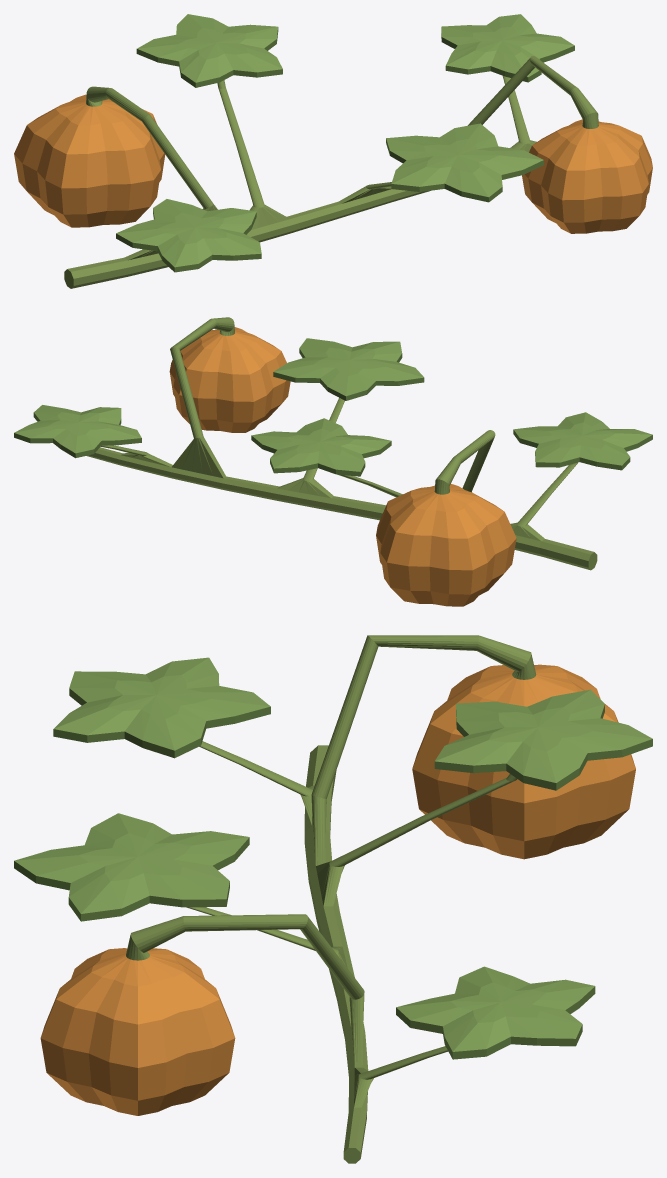
3 views of the same model, one above another, from view 1: azimuth 30°, elevation 25°; view 2: azimuth 150°, elevation 25°; view 3: azimuth 270°, elevation 25° (orthographic). The views are drawn at different scales.
Visible parts, largest first — view 1: ContinuousLowPumpkinVine; view 2: ContinuousLowPumpkinVine; view 3: ContinuousLowPumpkinVine.
Part boxes in pixels (bbox=[...]): ContinuousLowPumpkinVine: bbox=[14, 14, 652, 288]; ContinuousLowPumpkinVine: bbox=[14, 317, 652, 606]; ContinuousLowPumpkinVine: bbox=[14, 635, 652, 1163].
Size of the model in its own units: 2 by 0.4785 by 1.37.
